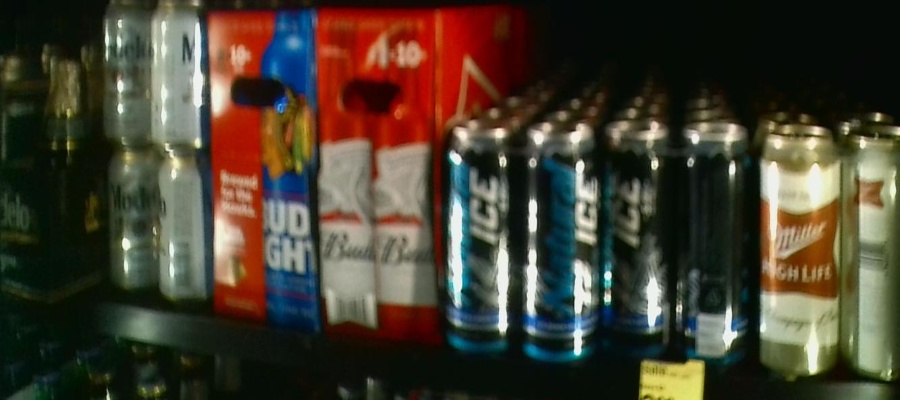bottle: (319, 5, 441, 346), (754, 131, 900, 378), (207, 6, 319, 326), (600, 129, 750, 365), (448, 124, 596, 361), (99, 1, 208, 307)
